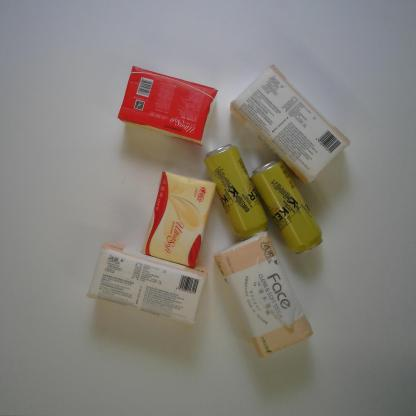Alcohol: (249, 155, 324, 258), (204, 142, 271, 243)
Tissue: (226, 61, 356, 188), (212, 230, 316, 360), (87, 242, 210, 327), (117, 62, 221, 148), (138, 166, 217, 272)
